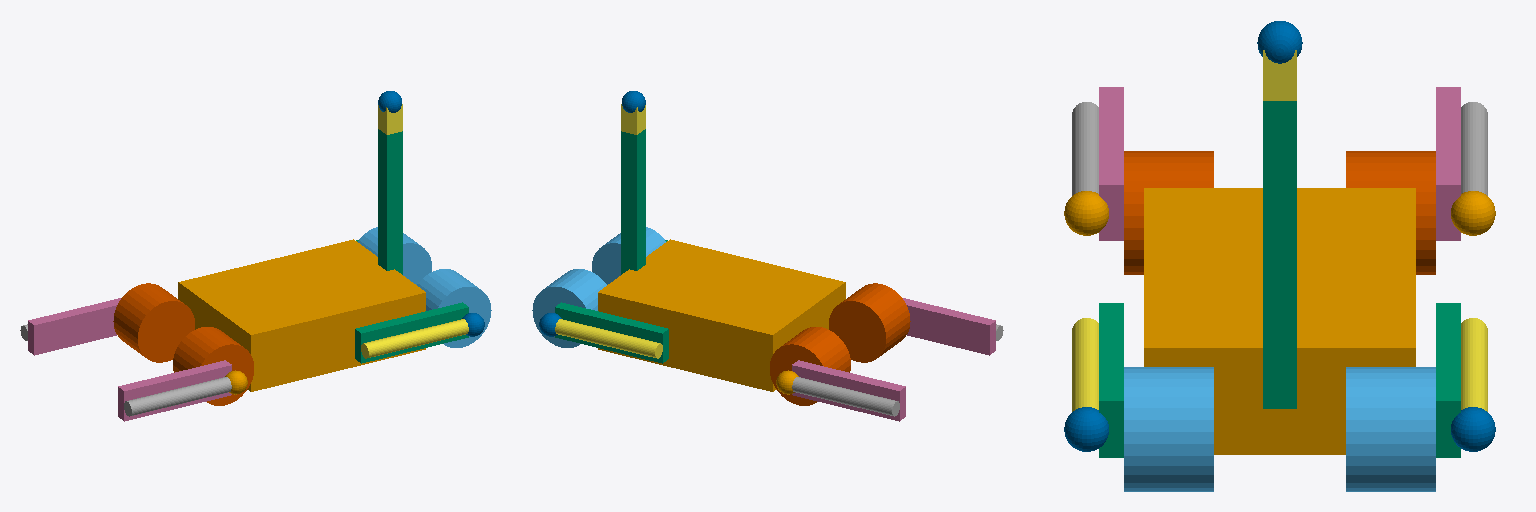
--- What the picture shows (computed from the rendered views, not written in the file) ---
Views: 3 orthographic renders of the robot side by side, from view 1: azimuth 30°, elevation 25°; view 2: azimuth 150°, elevation 25°; view 3: azimuth 270°, elevation 25°.
Model spirit with 21 links and 20 joints (14 revolute, 6 fixed), rooted at body, posed all joints at 0 but 1 set to mid-range because 0 is outside their limits (body_tail_joint_0 = -1.57).
Links seen in each view (by area): view 1: body, hip1, tail_link_0, upper1, hip3, hip2, upper3, upper2, lower3, lower2, hip0, tail_link_1; view 2: body, hip3, tail_link_0, upper3, hip1, hip0, upper1, upper0, lower1, lower0, hip2, tail_link_1; view 3: body, hip0, hip2, tail_link_0, hip1, hip3, upper0, upper2, upper1, upper3, lower0, lower1 (+8 smaller).
Boxes of the visible links, <box> form: body: <box>178,239,425,391</box>; hip1: <box>113,283,194,362</box>; tail_link_0: <box>378,129,402,274</box>; upper1: <box>28,298,120,355</box>; hip3: <box>173,327,253,405</box>; hip2: <box>417,269,491,347</box>; upper3: <box>118,360,231,421</box>; upper2: <box>355,302,468,363</box>; lower3: <box>124,377,231,416</box>; lower2: <box>361,319,468,358</box>; hip0: <box>358,227,431,284</box>; tail_link_1: <box>378,104,402,134</box>; body: <box>598,239,845,391</box>; hip3: <box>829,283,910,362</box>; tail_link_0: <box>621,129,645,274</box>; upper3: <box>903,298,995,355</box>; hip1: <box>770,327,850,405</box>; hip0: <box>532,269,606,347</box>; upper1: <box>792,360,905,421</box>; upper0: <box>555,302,668,363</box>; lower1: <box>792,377,899,416</box>; lower0: <box>555,319,662,358</box>; hip2: <box>592,227,665,284</box>; tail_link_1: <box>621,104,645,134</box>; body: <box>1144,188,1415,454</box>; hip0: <box>1346,367,1435,491</box>; hip2: <box>1124,367,1213,491</box>; tail_link_0: <box>1263,101,1296,408</box>; hip1: <box>1346,151,1435,274</box>; hip3: <box>1124,151,1213,274</box>; upper0: <box>1436,303,1460,457</box>; upper2: <box>1099,303,1123,457</box>; upper1: <box>1436,87,1460,240</box>; upper3: <box>1099,87,1123,240</box>; lower0: <box>1461,318,1487,411</box>; lower1: <box>1461,102,1487,195</box>.
Bounding box of the posed robot: 0.7136 × 0.382 × 0.425 m (x, y, z).
Geometry: primitives only (box / cylinder / sphere), no mesh files.

URDF robot description (spirit):
<?xml version="1.0" encoding="utf-8"?>
<!-- =================================================================================== -->
<!-- |    This document was autogenerated by xacro from working_gazebo.urdf.xacro      | -->
<!-- |    EDITING THIS FILE BY HAND IS NOT RECOMMENDED                                 | -->
<!-- =================================================================================== -->
<!-- 
MIT License (modified)
Copyright (c) 2020 Ghost Robotics
Authors:
Avik De <[email redacted]>
Tom Jacobs <[email redacted]>
Permission is hereby granted, free of charge, to any person obtaining a copy
of this **file** (the "Software"), to deal
in the Software without restriction, including without limitation the rights
to use, copy, modify, merge, publish, distribute, sublicense, and/or sell
copies of the Software, and to permit persons to whom the Software is
furnished to do so, subject to the following conditions:
The above copyright notice and this permission notice shall be included in all
copies or substantial portions of the Software.
THE SOFTWARE IS PROVIDED "AS IS", WITHOUT WARRANTY OF ANY KIND, EXPRESS OR
IMPLIED, INCLUDING BUT NOT LIMITED TO THE WARRANTIES OF MERCHANTABILITY,
FITNESS FOR A PARTICULAR PURPOSE AND NONINFRINGEMENT. IN NO EVENT SHALL THE
AUTHORS OR COPYRIGHT HOLDERS BE LIABLE FOR ANY CLAIM, DAMAGES OR OTHER
LIABILITY, WHETHER IN AN ACTION OF CONTRACT, TORT OR OTHERWISE, ARISING FROM,
OUT OF OR IN CONNECTION WITH THE SOFTWARE OR THE USE OR OTHER DEALINGS IN THE
SOFTWARE. 
-->
<robot name="spirit">
  <!-- Body -->
  <link name="body">
    <visual>
      <origin rpy="0 0 0" xyz="0 0 0"/>
      <geometry>
        <box size="0.335 0.24 0.104"/>
      </geometry>
      <material name="darkgray"/>
    </visual>
    <inertial>
      <mass value="5.75"/>
      <!-- Uniform box -->
      <!-- <inertia ixx="1/12*${bodyMass}*(${bodyWidth}*${bodyWidth} + ${bodyHeight}*${bodyHeight})"  ixy="0"  ixz="0" iyy="1/12*${bodyMass}*(${bodyLength}*${bodyLength} + ${bodyHeight}*${bodyHeight})" iyz="0" izz="1/12*${bodyMass}*(${bodyLength}*${bodyLength} + ${bodyWidth}*${bodyWidth})"/> -->
      <inertia ixx="0.05" ixy="0" ixz="0" iyy="0.1" iyz="0" izz="0.1"/>
    </inertial>
    <!-- Just copy geometry for collision -->
    <collision>
      <origin rpy="0 0 0" xyz="0 0 0"/>
      <geometry>
        <box size="0.335 0.24 0.104"/>
      </geometry>
    </collision>
  </link>
  <gazebo reference="body">
    <material>Gazebo/Black</material>
    <gravity>true</gravity>
  </gazebo>
  <!-- Hip motor -->
  <link name="hip0">
    <visual>
      <origin rpy="1.5707963268 0 0" xyz="0 0.028 0"/>
      <geometry>
        <cylinder length="0.08" radius="0.055"/>
      </geometry>
    </visual>
    <collision>
      <origin rpy="1.5707963268 0 0" xyz="0 0.028 0"/>
      <geometry>
        <cylinder length="0.08" radius="0.055"/>
      </geometry>
    </collision>
    <inertial>
      <origin rpy="1.5707963268 0 0" xyz="0 0.028 0"/>
      <mass value="0.575"/>
      <!-- <inertia ixx="1/12*${podMass}*${podLength}*${podLength} + 1/4*${podMass}*${podRadius}*${podRadius}"  ixy="0"  ixz="0" iyy="1/12*${podMass}*${podLength}*${podLength} + 1/4*${podMass}*${podRadius}*${podRadius}" iyz="0" izz="1/2*${podMass}*${podRadius}*$
				{podRadius}" /> -->
      <inertia ixx="0.00066963541" ixy="0" ixz="0" iyy="0.00066963541" iyz="0" izz="0.0008696875"/>
    </inertial>
  </link>
  <gazebo reference="hip0">
    <material>Gazebo/Grey</material>
  </gazebo>
  <!-- Upper leg -->
  <link name="upper0">
    <visual>
      <origin rpy="0 0 0" xyz="-0.103 -0.022 0"/>
      <geometry>
        <box size="0.206 0.022 0.055"/>
      </geometry>
      <material name="silver"/>
    </visual>
    <collision>
      <origin rpy="0 0 0" xyz="-0.103 -0.022 0"/>
      <geometry>
        <box size="0.206 0.022 0.055"/>
      </geometry>
    </collision>
    <inertial>
      <origin rpy="0 0 0" xyz="-0.103 -0.022 0"/>
      <mass value="0.775"/>
      <inertia ixx="5e-05" ixy="0" ixz="0" iyy="0.001" iyz="0" izz="0.001"/>
    </inertial>
  </link>
  <gazebo reference="upper0">
    <material>Gazebo/DarkGrey</material>
  </gazebo>
  <!-- Abduction joint. Joint names are: 8 9 10 11 -->
  <joint name="8" type="revolute">
    <parent link="body"/>
    <child link="hip0"/>
    <axis xyz="1 0 0"/>
    <!-- <origin xyz="${front *bodyLength/2+front * podRadius} ${left *bodyWidth/2+left*upperLegWidth-left*podLength} 0"/> -->
    <!-- <origin xyz="${front *bodyLength/2+front * podRadius} ${left *bodyWidth/2} 0"/> -->
    <origin xyz="0.2263 0.07 0"/>
    <limit effort="40" lower="-0.707" upper="0.707" velocity="30"/>
    <dynamics damping="0.0" friction="0.0"/>
  </joint>
  <!-- Transmission elements required for Gazebo -->
  <transmission name="transmission_8">
    <type>transmission_interface/SimpleTransmission</type>
    <joint name="8">
      <hardwareInterface>hardware_interface/EffortJointInterface</hardwareInterface>
    </joint>
    <actuator name="motor_8">
      <hardwareInterface>EffortJointInterface</hardwareInterface>
      <mechanicalReduction>1</mechanicalReduction>
    </actuator>
  </transmission>
  <!-- Hip joint. (Motor to upper leg). Joint names are: 0 2 4 6 -->
  <joint name="0" type="revolute">
    <parent link="hip0"/>
    <child link="upper0"/>
    <axis xyz="0 -1 0"/>
    <origin xyz="0 0.10098 0"/>
    <!--  rpy="0 -0.3 0" -->
    <limit effort="40" lower="-6.28318530718" upper="6.28318530718" velocity="30"/>
    <dynamics damping="0.0" friction="0.0"/>
  </joint>
  <!-- Transmission elements required for Gazebo -->
  <transmission name="transmission_0">
    <type>transmission_interface/SimpleTransmission</type>
    <joint name="0">
      <hardwareInterface>hardware_interface/EffortJointInterface</hardwareInterface>
    </joint>
    <actuator name="motor_0">
      <hardwareInterface>EffortJointInterface</hardwareInterface>
      <mechanicalReduction>1</mechanicalReduction>
    </actuator>
  </transmission>
  <!-- Lower leg -->
  <link name="lower0">
    <visual>
      <origin rpy="0 1.5707963268 0" xyz="0.103 0 0"/>
      <geometry>
        <cylinder length="0.206" radius="0.013"/>
      </geometry>
      <material name="darkgray"/>
    </visual>
    <collision>
      <origin rpy="0 1.5707963268 0" xyz="0.103 0 0"/>
      <geometry>
        <cylinder length="0.206" radius="0.013"/>
      </geometry>
    </collision>
    <inertial>
      <origin rpy="0 1.5707963268 0" xyz="0.103 0 0"/>
      <mass value="0.075"/>
      <inertia ixx="5e-06" ixy="0" ixz="0" iyy="0.0001" iyz="0" izz="0.0001"/>
    </inertial>
  </link>
  <gazebo reference="lower0">
    <material>Gazebo/Grey</material>
  </gazebo>
  <!-- Knee joint. Joint names are: 1 3 5 7 -->
  <joint name="1" type="revolute">
    <parent link="upper0"/>
    <child link="lower0"/>
    <axis xyz="0 1 0"/>
    <origin xyz="-0.206 0 0"/>
    <!--rpy="0 0.5 0"-->
    <limit effort="40" lower="0" upper="3.14159265359" velocity="30"/>
    <dynamics damping="0.0" friction="0.0"/>
  </joint>
  <!-- Transmission elements required for Gazebo -->
  <transmission name="transmission_1">
    <type>transmission_interface/SimpleTransmission</type>
    <joint name="1">
      <hardwareInterface>hardware_interface/EffortJointInterface</hardwareInterface>
    </joint>
    <actuator name="motor_1">
      <hardwareInterface>EffortJointInterface</hardwareInterface>
      <mechanicalReduction>1</mechanicalReduction>
    </actuator>
  </transmission>
  <!-- Toe -->
  <link name="toe0">
    <contact>
      <friction_anchor/>
      <stiffness value="30000.0"/>
      <damping value="1000.0"/>
      <spinning_friction value="0.3"/>
      <lateral_friction value="50.0"/>
    </contact>
    <visual>
      <origin rpy="0 0 0" xyz="0 0 0"/>
      <geometry>
        <sphere radius="0.02"/>
      </geometry>
      <material name="darkgray"/>
    </visual>
    <collision>
      <origin rpy="0 0 0" xyz="0 0 0"/>
      <geometry>
        <sphere radius="0.02"/>
      </geometry>
    </collision>
    <inertial>
      <mass value="0.015"/>
      <inertia ixx="0.000025" ixy="0" ixz="0" iyy="0.000025" iyz="0" izz="0.000025"/>
      <!-- <inertia ixx="2/5*${toeMass}*${toeRadius}*${toeRadius}"  ixy="0"  ixz="0" iyy="2/5*${toeMass}*${toeRadius}*${toeRadius}" iyz="0" izz="2/5*${toeMass}*${toeRadius}*${toeRadius}" /> -->
    </inertial>
  </link>
  <gazebo reference="toe0">
    <material>Gazebo/Black</material>
    <collision>
      <surface>
        <bounce>
          <restitution_coefficient>0</restitution_coefficient>
          <threshold>1e+06</threshold>
        </bounce>
        <friction>
          <torsional>
            <coefficient>0.3</coefficient>
          </torsional>
          <ode>
            <mu>100.0</mu>
            <mu2>50.0</mu2>
          </ode>
          <bullet>
            <rolling_friction>0.3</rolling_friction>
            <friction2>50.0</friction2>
          </bullet>
        </friction>
        <contact>
          <bullet>
            <kp>30000.0</kp>
            <kd>1000.0</kd>
          </bullet>
          <ode>
            <kp>30000.0</kp>
            <kd>1000.0</kd>
          </ode>
        </contact>
      </surface>
    </collision>
    <sensor name="toe0_contact" type="contact">
      <plugin filename="libgazebo_ros_bumper.so" name="toe0_plugin">
        <alwaysOn>1</alwaysOn>
        <updateRate>1000</updateRate>
        <bumperTopicName>gazebo/toe0_contact_state</bumperTopicName>
        <frameName>world</frameName>
        <robotNamespace>/</robotNamespace>
      </plugin>
      <contact>
        <collision>toe0_collision</collision>
        <topic>__default_topic__</topic>
      </contact>
      <update_rate>1000</update_rate>
    </sensor>
  </gazebo>
  <!-- Hip motor -->
  <link name="hip1">
    <visual>
      <origin rpy="1.5707963268 0 0" xyz="0 0.028 0"/>
      <geometry>
        <cylinder length="0.08" radius="0.055"/>
      </geometry>
    </visual>
    <collision>
      <origin rpy="1.5707963268 0 0" xyz="0 0.028 0"/>
      <geometry>
        <cylinder length="0.08" radius="0.055"/>
      </geometry>
    </collision>
    <inertial>
      <origin rpy="1.5707963268 0 0" xyz="0 0.028 0"/>
      <mass value="0.575"/>
      <!-- <inertia ixx="1/12*${podMass}*${podLength}*${podLength} + 1/4*${podMass}*${podRadius}*${podRadius}"  ixy="0"  ixz="0" iyy="1/12*${podMass}*${podLength}*${podLength} + 1/4*${podMass}*${podRadius}*${podRadius}" iyz="0" izz="1/2*${podMass}*${podRadius}*$
				{podRadius}" /> -->
      <inertia ixx="0.00066963541" ixy="0" ixz="0" iyy="0.00066963541" iyz="0" izz="0.0008696875"/>
    </inertial>
  </link>
  <gazebo reference="hip1">
    <material>Gazebo/Grey</material>
  </gazebo>
  <!-- Upper leg -->
  <link name="upper1">
    <visual>
      <origin rpy="0 0 0" xyz="-0.103 -0.022 0"/>
      <geometry>
        <box size="0.206 0.022 0.055"/>
      </geometry>
      <material name="silver"/>
    </visual>
    <collision>
      <origin rpy="0 0 0" xyz="-0.103 -0.022 0"/>
      <geometry>
        <box size="0.206 0.022 0.055"/>
      </geometry>
    </collision>
    <inertial>
      <origin rpy="0 0 0" xyz="-0.103 -0.022 0"/>
      <mass value="0.775"/>
      <inertia ixx="5e-05" ixy="0" ixz="0" iyy="0.001" iyz="0" izz="0.001"/>
    </inertial>
  </link>
  <gazebo reference="upper1">
    <material>Gazebo/DarkGrey</material>
  </gazebo>
  <!-- Abduction joint. Joint names are: 8 9 10 11 -->
  <joint name="9" type="revolute">
    <parent link="body"/>
    <child link="hip1"/>
    <axis xyz="1 0 0"/>
    <!-- <origin xyz="${front *bodyLength/2+front * podRadius} ${left *bodyWidth/2+left*upperLegWidth-left*podLength} 0"/> -->
    <!-- <origin xyz="${front *bodyLength/2+front * podRadius} ${left *bodyWidth/2} 0"/> -->
    <origin xyz="-0.2263 0.07 0"/>
    <limit effort="40" lower="-0.707" upper="0.707" velocity="30"/>
    <dynamics damping="0.0" friction="0.0"/>
  </joint>
  <!-- Transmission elements required for Gazebo -->
  <transmission name="transmission_9">
    <type>transmission_interface/SimpleTransmission</type>
    <joint name="9">
      <hardwareInterface>hardware_interface/EffortJointInterface</hardwareInterface>
    </joint>
    <actuator name="motor_9">
      <hardwareInterface>EffortJointInterface</hardwareInterface>
      <mechanicalReduction>1</mechanicalReduction>
    </actuator>
  </transmission>
  <!-- Hip joint. (Motor to upper leg). Joint names are: 0 2 4 6 -->
  <joint name="2" type="revolute">
    <parent link="hip1"/>
    <child link="upper1"/>
    <axis xyz="0 -1 0"/>
    <origin xyz="0 0.10098 0"/>
    <!--  rpy="0 -0.3 0" -->
    <limit effort="40" lower="-6.28318530718" upper="6.28318530718" velocity="30"/>
    <dynamics damping="0.0" friction="0.0"/>
  </joint>
  <!-- Transmission elements required for Gazebo -->
  <transmission name="transmission_2">
    <type>transmission_interface/SimpleTransmission</type>
    <joint name="2">
      <hardwareInterface>hardware_interface/EffortJointInterface</hardwareInterface>
    </joint>
    <actuator name="motor_2">
      <hardwareInterface>EffortJointInterface</hardwareInterface>
      <mechanicalReduction>1</mechanicalReduction>
    </actuator>
  </transmission>
  <!-- Lower leg -->
  <link name="lower1">
    <visual>
      <origin rpy="0 1.5707963268 0" xyz="0.103 0 0"/>
      <geometry>
        <cylinder length="0.206" radius="0.013"/>
      </geometry>
      <material name="darkgray"/>
    </visual>
    <collision>
      <origin rpy="0 1.5707963268 0" xyz="0.103 0 0"/>
      <geometry>
        <cylinder length="0.206" radius="0.013"/>
      </geometry>
    </collision>
    <inertial>
      <origin rpy="0 1.5707963268 0" xyz="0.103 0 0"/>
      <mass value="0.075"/>
      <inertia ixx="5e-06" ixy="0" ixz="0" iyy="0.0001" iyz="0" izz="0.0001"/>
    </inertial>
  </link>
  <gazebo reference="lower1">
    <material>Gazebo/Grey</material>
  </gazebo>
  <!-- Knee joint. Joint names are: 1 3 5 7 -->
  <joint name="3" type="revolute">
    <parent link="upper1"/>
    <child link="lower1"/>
    <axis xyz="0 1 0"/>
    <origin xyz="-0.206 0 0"/>
    <!--rpy="0 0.5 0"-->
    <limit effort="40" lower="0" upper="3.14159265359" velocity="30"/>
    <dynamics damping="0.0" friction="0.0"/>
  </joint>
  <!-- Transmission elements required for Gazebo -->
  <transmission name="transmission_3">
    <type>transmission_interface/SimpleTransmission</type>
    <joint name="3">
      <hardwareInterface>hardware_interface/EffortJointInterface</hardwareInterface>
    </joint>
    <actuator name="motor_3">
      <hardwareInterface>EffortJointInterface</hardwareInterface>
      <mechanicalReduction>1</mechanicalReduction>
    </actuator>
  </transmission>
  <!-- Toe -->
  <link name="toe1">
    <contact>
      <friction_anchor/>
      <stiffness value="30000.0"/>
      <damping value="1000.0"/>
      <spinning_friction value="0.3"/>
      <lateral_friction value="50.0"/>
    </contact>
    <visual>
      <origin rpy="0 0 0" xyz="0 0 0"/>
      <geometry>
        <sphere radius="0.02"/>
      </geometry>
      <material name="darkgray"/>
    </visual>
    <collision>
      <origin rpy="0 0 0" xyz="0 0 0"/>
      <geometry>
        <sphere radius="0.02"/>
      </geometry>
    </collision>
    <inertial>
      <mass value="0.015"/>
      <inertia ixx="0.000025" ixy="0" ixz="0" iyy="0.000025" iyz="0" izz="0.000025"/>
      <!-- <inertia ixx="2/5*${toeMass}*${toeRadius}*${toeRadius}"  ixy="0"  ixz="0" iyy="2/5*${toeMass}*${toeRadius}*${toeRadius}" iyz="0" izz="2/5*${toeMass}*${toeRadius}*${toeRadius}" /> -->
    </inertial>
  </link>
  <gazebo reference="toe1">
    <material>Gazebo/Black</material>
    <collision>
      <surface>
        <bounce>
          <restitution_coefficient>0</restitution_coefficient>
          <threshold>1e+06</threshold>
        </bounce>
        <friction>
          <torsional>
            <coefficient>0.3</coefficient>
          </torsional>
          <ode>
            <mu>100.0</mu>
            <mu2>50.0</mu2>
          </ode>
          <bullet>
            <rolling_friction>0.3</rolling_friction>
            <friction2>50.0</friction2>
          </bullet>
        </friction>
        <contact>
          <bullet>
            <kp>30000.0</kp>
            <kd>1000.0</kd>
          </bullet>
          <ode>
            <kp>30000.0</kp>
            <kd>1000.0</kd>
          </ode>
        </contact>
      </surface>
    </collision>
    <sensor name="toe1_contact" type="contact">
      <plugin filename="libgazebo_ros_bumper.so" name="toe1_plugin">
        <alwaysOn>1</alwaysOn>
        <updateRate>1000</updateRate>
        <bumperTopicName>gazebo/toe1_contact_state</bumperTopicName>
        <frameName>world</frameName>
        <robotNamespace>/</robotNamespace>
      </plugin>
      <contact>
        <collision>toe1_collision</collision>
        <topic>__default_topic__</topic>
      </contact>
      <update_rate>1000</update_rate>
    </sensor>
  </gazebo>
  <!-- Hip motor -->
  <link name="hip2">
    <visual>
      <origin rpy="1.5707963268 0 0" xyz="0 -0.028 0"/>
      <geometry>
        <cylinder length="0.08" radius="0.055"/>
      </geometry>
    </visual>
    <collision>
      <origin rpy="1.5707963268 0 0" xyz="0 -0.028 0"/>
      <geometry>
        <cylinder length="0.08" radius="0.055"/>
      </geometry>
    </collision>
    <inertial>
      <origin rpy="1.5707963268 0 0" xyz="0 -0.028 0"/>
      <mass value="0.575"/>
      <!-- <inertia ixx="1/12*${podMass}*${podLength}*${podLength} + 1/4*${podMass}*${podRadius}*${podRadius}"  ixy="0"  ixz="0" iyy="1/12*${podMass}*${podLength}*${podLength} + 1/4*${podMass}*${podRadius}*${podRadius}" iyz="0" izz="1/2*${podMass}*${podRadius}*$
				{podRadius}" /> -->
      <inertia ixx="0.00066963541" ixy="0" ixz="0" iyy="0.00066963541" iyz="0" izz="0.0008696875"/>
    </inertial>
  </link>
  <gazebo reference="hip2">
    <material>Gazebo/Grey</material>
  </gazebo>
  <!-- Upper leg -->
  <link name="upper2">
    <visual>
      <origin rpy="0 0 0" xyz="-0.103 0.022 0"/>
      <geometry>
        <box size="0.206 0.022 0.055"/>
      </geometry>
      <material name="silver"/>
    </visual>
    <collision>
      <origin rpy="0 0 0" xyz="-0.103 0.022 0"/>
      <geometry>
        <box size="0.206 0.022 0.055"/>
      </geometry>
    </collision>
    <inertial>
      <origin rpy="0 0 0" xyz="-0.103 0.022 0"/>
      <mass value="0.775"/>
      <inertia ixx="5e-05" ixy="0" ixz="0" iyy="0.001" iyz="0" izz="0.001"/>
    </inertial>
  </link>
  <gazebo reference="upper2">
    <material>Gazebo/DarkGrey</material>
  </gazebo>
  <!-- Abduction joint. Joint names are: 8 9 10 11 -->
  <joint name="10" type="revolute">
    <parent link="body"/>
    <child link="hip2"/>
    <axis xyz="1 0 0"/>
    <!-- <origin xyz="${front *bodyLength/2+front * podRadius} ${left *bodyWidth/2+left*upperLegWidth-left*podLength} 0"/> -->
    <!-- <origin xyz="${front *bodyLength/2+front * podRadius} ${left *bodyWidth/2} 0"/> -->
    <origin xyz="0.2263 -0.07 0"/>
    <limit effort="40" lower="-0.707" upper="0.707" velocity="30"/>
    <dynamics damping="0.0" friction="0.0"/>
  </joint>
  <!-- Transmission elements required for Gazebo -->
  <transmission name="transmission_10">
    <type>transmission_interface/SimpleTransmission</type>
    <joint name="10">
      <hardwareInterface>hardware_interface/EffortJointInterface</hardwareInterface>
    </joint>
    <actuator name="motor_10">
      <hardwareInterface>EffortJointInterface</hardwareInterface>
      <mechanicalReduction>1</mechanicalReduction>
    </actuator>
  </transmission>
  <!-- Hip joint. (Motor to upper leg). Joint names are: 0 2 4 6 -->
  <joint name="4" type="revolute">
    <parent link="hip2"/>
    <child link="upper2"/>
    <axis xyz="0 -1 0"/>
    <origin xyz="0 -0.10098 0"/>
    <!--  rpy="0 -0.3 0" -->
    <limit effort="40" lower="-6.28318530718" upper="6.28318530718" velocity="30"/>
    <dynamics damping="0.0" friction="0.0"/>
  </joint>
  <!-- Transmission elements required for Gazebo -->
  <transmission name="transmission_4">
    <type>transmission_interface/SimpleTransmission</type>
    <joint name="4">
      <hardwareInterface>hardware_interface/EffortJointInterface</hardwareInterface>
    </joint>
    <actuator name="motor_4">
      <hardwareInterface>EffortJointInterface</hardwareInterface>
      <mechanicalReduction>1</mechanicalReduction>
    </actuator>
  </transmission>
  <!-- Lower leg -->
  <link name="lower2">
    <visual>
      <origin rpy="0 1.5707963268 0" xyz="0.103 0 0"/>
      <geometry>
        <cylinder length="0.206" radius="0.013"/>
      </geometry>
      <material name="darkgray"/>
    </visual>
    <collision>
      <origin rpy="0 1.5707963268 0" xyz="0.103 0 0"/>
      <geometry>
        <cylinder length="0.206" radius="0.013"/>
      </geometry>
    </collision>
    <inertial>
      <origin rpy="0 1.5707963268 0" xyz="0.103 0 0"/>
      <mass value="0.075"/>
      <inertia ixx="5e-06" ixy="0" ixz="0" iyy="0.0001" iyz="0" izz="0.0001"/>
    </inertial>
  </link>
  <gazebo reference="lower2">
    <material>Gazebo/Grey</material>
  </gazebo>
  <!-- Knee joint. Joint names are: 1 3 5 7 -->
  <joint name="5" type="revolute">
    <parent link="upper2"/>
    <child link="lower2"/>
    <axis xyz="0 1 0"/>
    <origin xyz="-0.206 0 0"/>
    <!--rpy="0 0.5 0"-->
    <limit effort="40" lower="0" upper="3.14159265359" velocity="30"/>
    <dynamics damping="0.0" friction="0.0"/>
  </joint>
  <!-- Transmission elements required for Gazebo -->
  <transmission name="transmission_5">
    <type>transmission_interface/SimpleTransmission</type>
    <joint name="5">
      <hardwareInterface>hardware_interface/EffortJointInterface</hardwareInterface>
    </joint>
    <actuator name="motor_5">
      <hardwareInterface>EffortJointInterface</hardwareInterface>
      <mechanicalReduction>1</mechanicalReduction>
    </actuator>
  </transmission>
  <!-- Toe -->
  <link name="toe2">
    <contact>
      <friction_anchor/>
      <stiffness value="30000.0"/>
      <damping value="1000.0"/>
      <spinning_friction value="0.3"/>
      <lateral_friction value="50.0"/>
    </contact>
    <visual>
      <origin rpy="0 0 0" xyz="0 0 0"/>
      <geometry>
        <sphere radius="0.02"/>
      </geometry>
      <material name="darkgray"/>
    </visual>
    <collision>
      <origin rpy="0 0 0" xyz="0 0 0"/>
      <geometry>
        <sphere radius="0.02"/>
      </geometry>
    </collision>
    <inertial>
      <mass value="0.015"/>
      <inertia ixx="0.000025" ixy="0" ixz="0" iyy="0.000025" iyz="0" izz="0.000025"/>
      <!-- <inertia ixx="2/5*${toeMass}*${toeRadius}*${toeRadius}"  ixy="0"  ixz="0" iyy="2/5*${toeMass}*${toeRadius}*${toeRadius}" iyz="0" izz="2/5*${toeMass}*${toeRadius}*${toeRadius}" /> -->
    </inertial>
  </link>
  <gazebo reference="toe2">
    <material>Gazebo/Black</material>
    <collision>
      <surface>
        <bounce>
          <restitution_coefficient>0</restitution_coefficient>
          <threshold>1e+06</threshold>
        </bounce>
        <friction>
          <torsional>
            <coefficient>0.3</coefficient>
          </torsional>
          <ode>
            <mu>100.0</mu>
            <mu2>50.0</mu2>
          </ode>
          <bullet>
            <rolling_friction>0.3</rolling_friction>
            <friction2>50.0</friction2>
          </bullet>
        </friction>
        <contact>
          <bullet>
            <kp>30000.0</kp>
            <kd>1000.0</kd>
          </bullet>
          <ode>
            <kp>30000.0</kp>
            <kd>1000.0</kd>
          </ode>
        </contact>
      </surface>
    </collision>
    <sensor name="toe2_contact" type="contact">
      <plugin filename="libgazebo_ros_bumper.so" name="toe2_plugin">
        <alwaysOn>1</alwaysOn>
        <updateRate>1000</updateRate>
        <bumperTopicName>gazebo/toe2_contact_state</bumperTopicName>
        <frameName>world</frameName>
        <robotNamespace>/</robotNamespace>
      </plugin>
      <contact>
        <collision>toe2_collision</collision>
        <topic>__default_topic__</topic>
      </contact>
      <update_rate>1000</update_rate>
    </sensor>
  </gazebo>
  <!-- Hip motor -->
  <link name="hip3">
    <visual>
      <origin rpy="1.5707963268 0 0" xyz="0 -0.028 0"/>
      <geometry>
        <cylinder length="0.08" radius="0.055"/>
      </geometry>
    </visual>
    <collision>
      <origin rpy="1.5707963268 0 0" xyz="0 -0.028 0"/>
      <geometry>
        <cylinder length="0.08" radius="0.055"/>
      </geometry>
    </collision>
    <inertial>
      <origin rpy="1.5707963268 0 0" xyz="0 -0.028 0"/>
      <mass value="0.575"/>
      <!-- <inertia ixx="1/12*${podMass}*${podLength}*${podLength} + 1/4*${podMass}*${podRadius}*${podRadius}"  ixy="0"  ixz="0" iyy="1/12*${podMass}*${podLength}*${podLength} + 1/4*${podMass}*${podRadius}*${podRadius}" iyz="0" izz="1/2*${podMass}*${podRadius}*$
				{podRadius}" /> -->
      <inertia ixx="0.00066963541" ixy="0" ixz="0" iyy="0.00066963541" iyz="0" izz="0.0008696875"/>
    </inertial>
  </link>
  <gazebo reference="hip3">
    <material>Gazebo/Grey</material>
  </gazebo>
  <!-- Upper leg -->
  <link name="upper3">
    <visual>
      <origin rpy="0 0 0" xyz="-0.103 0.022 0"/>
      <geometry>
        <box size="0.206 0.022 0.055"/>
      </geometry>
      <material name="silver"/>
    </visual>
    <collision>
      <origin rpy="0 0 0" xyz="-0.103 0.022 0"/>
      <geometry>
        <box size="0.206 0.022 0.055"/>
      </geometry>
    </collision>
    <inertial>
      <origin rpy="0 0 0" xyz="-0.103 0.022 0"/>
      <mass value="0.775"/>
      <inertia ixx="5e-05" ixy="0" ixz="0" iyy="0.001" iyz="0" izz="0.001"/>
    </inertial>
  </link>
  <gazebo reference="upper3">
    <material>Gazebo/DarkGrey</material>
  </gazebo>
  <!-- Abduction joint. Joint names are: 8 9 10 11 -->
  <joint name="11" type="revolute">
    <parent link="body"/>
    <child link="hip3"/>
    <axis xyz="1 0 0"/>
    <!-- <origin xyz="${front *bodyLength/2+front * podRadius} ${left *bodyWidth/2+left*upperLegWidth-left*podLength} 0"/> -->
    <!-- <origin xyz="${front *bodyLength/2+front * podRadius} ${left *bodyWidth/2} 0"/> -->
    <origin xyz="-0.2263 -0.07 0"/>
    <limit effort="40" lower="-0.707" upper="0.707" velocity="30"/>
    <dynamics damping="0.0" friction="0.0"/>
  </joint>
  <!-- Transmission elements required for Gazebo -->
  <transmission name="transmission_11">
    <type>transmission_interface/SimpleTransmission</type>
    <joint name="11">
      <hardwareInterface>hardware_interface/EffortJointInterface</hardwareInterface>
    </joint>
    <actuator name="motor_11">
      <hardwareInterface>EffortJointInterface</hardwareInterface>
      <mechanicalReduction>1</mechanicalReduction>
    </actuator>
  </transmission>
  <!-- Hip joint. (Motor to upper leg). Joint names are: 0 2 4 6 -->
  <joint name="6" type="revolute">
    <parent link="hip3"/>
    <child link="upper3"/>
    <axis xyz="0 -1 0"/>
    <origin xyz="0 -0.10098 0"/>
    <!--  rpy="0 -0.3 0" -->
    <limit effort="40" lower="-6.28318530718" upper="6.28318530718" velocity="30"/>
    <dynamics damping="0.0" friction="0.0"/>
  </joint>
  <!-- Transmission elements required for Gazebo -->
  <transmission name="transmission_6">
    <type>transmission_interface/SimpleTransmission</type>
    <joint name="6">
      <hardwareInterface>hardware_interface/EffortJointInterface</hardwareInterface>
    </joint>
    <actuator name="motor_6">
      <hardwareInterface>EffortJointInterface</hardwareInterface>
      <mechanicalReduction>1</mechanicalReduction>
    </actuator>
  </transmission>
  <!-- Lower leg -->
  <link name="lower3">
    <visual>
      <origin rpy="0 1.5707963268 0" xyz="0.103 0 0"/>
      <geometry>
        <cylinder length="0.206" radius="0.013"/>
      </geometry>
      <material name="darkgray"/>
    </visual>
    <collision>
      <origin rpy="0 1.5707963268 0" xyz="0.103 0 0"/>
      <geometry>
        <cylinder length="0.206" radius="0.013"/>
      </geometry>
    </collision>
    <inertial>
      <origin rpy="0 1.5707963268 0" xyz="0.103 0 0"/>
      <mass value="0.075"/>
      <inertia ixx="5e-06" ixy="0" ixz="0" iyy="0.0001" iyz="0" izz="0.0001"/>
    </inertial>
  </link>
  <gazebo reference="lower3">
    <material>Gazebo/Grey</material>
  </gazebo>
  <!-- Knee joint. Joint names are: 1 3 5 7 -->
  <joint name="7" type="revolute">
    <parent link="upper3"/>
    <child link="lower3"/>
    <axis xyz="0 1 0"/>
    <origin xyz="-0.206 0 0"/>
    <!--rpy="0 0.5 0"-->
    <limit effort="40" lower="0" upper="3.14159265359" velocity="30"/>
    <dynamics damping="0.0" friction="0.0"/>
  </joint>
  <!-- Transmission elements required for Gazebo -->
  <transmission name="transmission_7">
    <type>transmission_interface/SimpleTransmission</type>
    <joint name="7">
      <hardwareInterface>hardware_interface/EffortJointInterface</hardwareInterface>
    </joint>
    <actuator name="motor_7">
      <hardwareInterface>EffortJointInterface</hardwareInterface>
      <mechanicalReduction>1</mechanicalReduction>
    </actuator>
  </transmission>
  <!-- Toe -->
  <link name="toe3">
    <contact>
      <friction_anchor/>
      <stiffness value="30000.0"/>
      <damping value="1000.0"/>
      <spinning_friction value="0.3"/>
      <lateral_friction value="50.0"/>
    </contact>
    <visual>
      <origin rpy="0 0 0" xyz="0 0 0"/>
      <geometry>
        <sphere radius="0.02"/>
      </geometry>
      <material name="darkgray"/>
    </visual>
    <collision>
      <origin rpy="0 0 0" xyz="0 0 0"/>
      <geometry>
        <sphere radius="0.02"/>
      </geometry>
    </collision>
    <inertial>
      <mass value="0.015"/>
      <inertia ixx="0.000025" ixy="0" ixz="0" iyy="0.000025" iyz="0" izz="0.000025"/>
      <!-- <inertia ixx="2/5*${toeMass}*${toeRadius}*${toeRadius}"  ixy="0"  ixz="0" iyy="2/5*${toeMass}*${toeRadius}*${toeRadius}" iyz="0" izz="2/5*${toeMass}*${toeRadius}*${toeRadius}" /> -->
    </inertial>
  </link>
  <gazebo reference="toe3">
    <material>Gazebo/Black</material>
    <collision>
      <surface>
        <bounce>
          <restitution_coefficient>0</restitution_coefficient>
          <threshold>1e+06</threshold>
        </bounce>
        <friction>
          <torsional>
            <coefficient>0.3</coefficient>
          </torsional>
          <ode>
            <mu>100.0</mu>
            <mu2>50.0</mu2>
          </ode>
          <bullet>
            <rolling_friction>0.3</rolling_friction>
            <friction2>50.0</friction2>
          </bullet>
        </friction>
        <contact>
          <bullet>
            <kp>30000.0</kp>
            <kd>1000.0</kd>
          </bullet>
          <ode>
            <kp>30000.0</kp>
            <kd>1000.0</kd>
          </ode>
        </contact>
      </surface>
    </collision>
    <sensor name="toe3_contact" type="contact">
      <plugin filename="libgazebo_ros_bumper.so" name="toe3_plugin">
        <alwaysOn>1</alwaysOn>
        <updateRate>1000</updateRate>
        <bumperTopicName>gazebo/toe3_contact_state</bumperTopicName>
        <frameName>world</frameName>
        <robotNamespace>/</robotNamespace>
      </plugin>
      <contact>
        <collision>toe3_collision</collision>
        <topic>__default_topic__</topic>
      </contact>
      <update_rate>1000</update_rate>
    </sensor>
  </gazebo>
  <link name="imu::link">
    <visual>
      <origin rpy="0 0 0" xyz="0 0 0"/>
      <geometry>
        <sphere radius="0.02"/>
      </geometry>
      <material name="gray"/>
    </visual>
    <inertial>
      <mass value="0.001"/>
      <inertia ixx="0.0001" ixy="0" ixz="0" iyy="0" iyz="0" izz="0"/>
    </inertial>
  </link>
  <gazebo reference="imu::link">
    <material>Gazebo/Gray</material>
    <sensor name="imu_sensor" type="imu">
      <always_on>1</always_on>
      <update_rate>100</update_rate>
      <visualize>1</visualize>
      <topic>__default_topic__</topic>
      <plugin filename="libgazebo_ros_imu_sensor.so" name="imu_plugin">
        <topicName>/mcu/state/imu</topicName>
        <bodyName>imu::link</bodyName>
        <robotNamespace>/</robotNamespace>
        <updateRateHZ>500.0</updateRateHZ>
        <gaussianNoise>0.0</gaussianNoise>
        <xyzOffset>0 0 0</xyzOffset>
        <rpyOffset>0 0 0</rpyOffset>
        <frameName>imu::link</frameName>
        <initialOrientationAsReference>0</initialOrientationAsReference>
      </plugin>
      <pose frame="">0 0 0 0 -0 0</pose>
      <imu/>
    </sensor>
  </gazebo>
  <link name="tail_link_0">
    <visual>
      <origin rpy="0 0 0" xyz="0.15 0 0"/>
      <geometry>
        <box size="0.3 0.03 0.03"/>
      </geometry>
      <material name="darkgray"/>
    </visual>
    <inertial>
      <origin rpy="0 0 0" xyz="0.15 0 0"/>
      <mass value="0.027"/>
      <inertia ixx="0.0001" ixy="0" ixz="0" iyy="0.0001" iyz="0" izz="0.0001"/>
    </inertial>
    <!-- Just copy geometry for collision -->
    <!-- <collision>
		<origin rpy="0 0 0" xyz="${neckLength1/2} 0 0"/>
			<geometry>
				<box size="${neckLength1} ${neckWidth} ${neckHeight}"/>
			</geometry>
		</collision> -->
  </link>
  <gazebo reference="tail_link_0">
    <material>Gazebo/Gray</material>
  </gazebo>
  <link name="tail_link_1">
    <visual>
      <origin rpy="0 0 0" xyz="0.025 0 0"/>
      <geometry>
        <box size="0.05 0.03 0.03"/>
      </geometry>
      <material name="darkgray"/>
    </visual>
    <inertial>
      <origin rpy="0 0 0" xyz="0.025 0 0"/>
      <mass value="0.00045"/>
      <inertia ixx="0.0001" ixy="0" ixz="0" iyy="0.0001" iyz="0" izz="0.0001"/>
    </inertial>
    <!-- Just copy geometry for collision -->
    <!-- <collision>
		<origin rpy="0 0 0" xyz="${neckLength2/2} 0 0"/>
			<geometry>
				<box size="${neckLength2} ${neckWidth} ${neckHeight}"/>
			</geometry>
		</collision> -->
  </link>
  <gazebo reference="tail_link_1">
    <material>Gazebo/Gray</material>
  </gazebo>
  <link name="tail_mass">
    <visual>
      <origin rpy="0 0 0" xyz="0 0 0"/>
      <geometry>
        <sphere radius="0.02"/>
      </geometry>
      <material name="gray"/>
    </visual>
    <inertial>
      <mass value="0.01"/>
      <inertia ixx="0.001" ixy="0" ixz="0" iyy="0" iyz="0" izz="0"/>
    </inertial>
    <collision>
      <origin rpy="0 0 0" xyz="0 0 0"/>
      <geometry>
        <sphere radius="0.02"/>
      </geometry>
    </collision>
  </link>
  <gazebo reference="tail_mass">
    <material>Gazebo/Gray</material>
  </gazebo>
  <joint name="body_tail_joint_0" type="revolute">
    <parent link="body"/>
    <child link="tail_link_0"/>
    <axis xyz="0 1 0"/>
    <!-- <origin xyz="${neckAttachmentX} 0 0"/> -->
    <origin xyz="0.1675 0 0"/>
    <limit effort="35" lower="-1.57" upper="-1.57" velocity="1000000"/>
    <dynamics damping="0.0" friction="0.0"/>
  </joint>
  <!-- Transmission elements required for Gazebo -->
  <transmission name="transmission_body_tail_joint_0">
    <type>transmission_interface/SimpleTransmission</type>
    <joint name="body_tail_joint_0">
      <hardwareInterface>hardware_interface/EffortJointInterface</hardwareInterface>
    </joint>
    <actuator name="motor_body_tail_joint_0">
      <hardwareInterface>EffortJointInterface</hardwareInterface>
      <mechanicalReduction>1</mechanicalReduction>
    </actuator>
  </transmission>
  <joint name="body_tail_joint_1" type="revolute">
    <parent link="tail_link_0"/>
    <child link="tail_link_1"/>
    <axis xyz="0 1 0"/>
    <origin xyz="0.3 0 0"/>
    <limit effort="35" lower="-1.57" upper="1.57" velocity="1000000"/>
    <dynamics damping="0.0" friction="0.0"/>
  </joint>
  <!-- Transmission elements required for Gazebo -->
  <transmission name="transmission_body_tail_joint_1">
    <type>transmission_interface/SimpleTransmission</type>
    <joint name="body_tail_joint_1">
      <hardwareInterface>hardware_interface/EffortJointInterface</hardwareInterface>
    </joint>
    <actuator name="motor_body_tail_joint_1">
      <hardwareInterface>EffortJointInterface</hardwareInterface>
      <mechanicalReduction>1</mechanicalReduction>
    </actuator>
  </transmission>
  <joint name="tail_link_mass_joint" type="fixed">
    <parent link="tail_link_1"/>
    <child link="tail_mass"/>
    <origin xyz="0.05 0 0"/>
    <dynamics damping="0.0" friction="0.0"/>
  </joint>
  <gazebo reference="tail_link_mass_joint">
    <disableFixedJointLumping>1</disableFixedJointLumping>
    <preserveFixedJoint>1</preserveFixedJoint>
  </gazebo>
  <joint name="jtoe0" type="fixed">
    <parent link="lower0"/>
    <child link="toe0"/>
    <origin xyz="0.206 0 -0.0"/>
    <dynamics damping="0.0" friction="0.0"/>
  </joint>
  <gazebo reference="jtoe0">
    <disableFixedJointLumping>1</disableFixedJointLumping>
    <preserveFixedJoint>1</preserveFixedJoint>
  </gazebo>
  <joint name="jtoe1" type="fixed">
    <parent link="lower1"/>
    <child link="toe1"/>
    <origin xyz="0.206 0 -0.0"/>
    <dynamics damping="0.0" friction="0.0"/>
  </joint>
  <gazebo reference="jtoe1">
    <disableFixedJointLumping>1</disableFixedJointLumping>
    <preserveFixedJoint>1</preserveFixedJoint>
  </gazebo>
  <joint name="jtoe2" type="fixed">
    <parent link="lower2"/>
    <child link="toe2"/>
    <origin xyz="0.206 0 -0.0"/>
    <dynamics damping="0.0" friction="0.0"/>
  </joint>
  <gazebo reference="jtoe2">
    <disableFixedJointLumping>1</disableFixedJointLumping>
    <preserveFixedJoint>1</preserveFixedJoint>
  </gazebo>
  <joint name="jtoe3" type="fixed">
    <parent link="lower3"/>
    <child link="toe3"/>
    <origin xyz="0.206 0 -0.0"/>
    <dynamics damping="0.0" friction="0.0"/>
  </joint>
  <gazebo reference="jtoe3">
    <disableFixedJointLumping>1</disableFixedJointLumping>
    <preserveFixedJoint>1</preserveFixedJoint>
  </gazebo>
  <joint name="imu_joint" type="fixed">
    <parent link="body"/>
    <child link="imu::link"/>
  </joint>
  <gazebo reference="imu_joint">
    <disableFixedJointLumping>1</disableFixedJointLumping>
    <preserveFixedJoint>1</preserveFixedJoint>
  </gazebo>
  <!--    CUSTOMIZED SECTIONS	ABOVE. NOT FROM GHOST ROBOTICS.    -->
  <!-- Add ros_control plugin -->
  <gazebo>
    <plugin filename="libgazebo_ros_control.so" name="gazebo_ros_control">
      <robotNamespace>/spirit</robotNamespace>
      <controlPeriod>0.002</controlPeriod>
    </plugin>
    <plugin filename="libground_truth_estimator.so" name="ground_truth_estimator">
      <updateRateHZ>500.0</updateRateHZ>
      <robotNamespace>/</robotNamespace>
    </plugin>
  </gazebo>
</robot>
